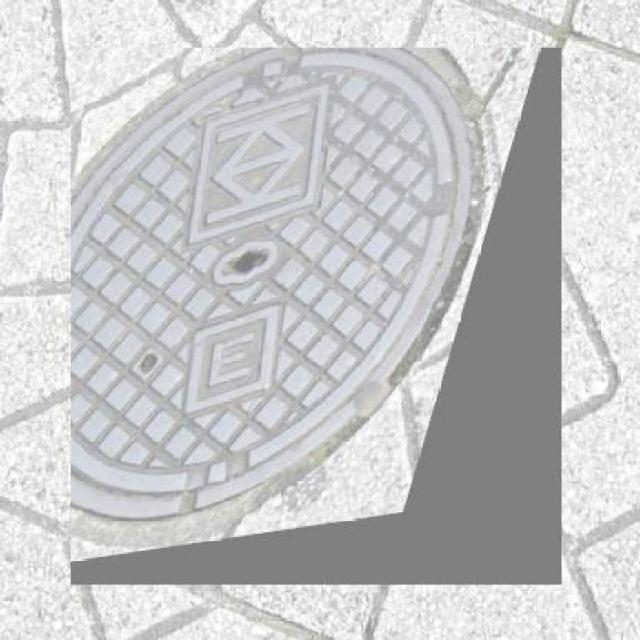Manhole: (70, 48, 562, 584)
